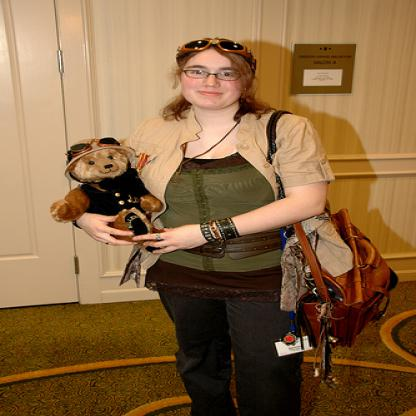handbag: (292, 208, 391, 347)
